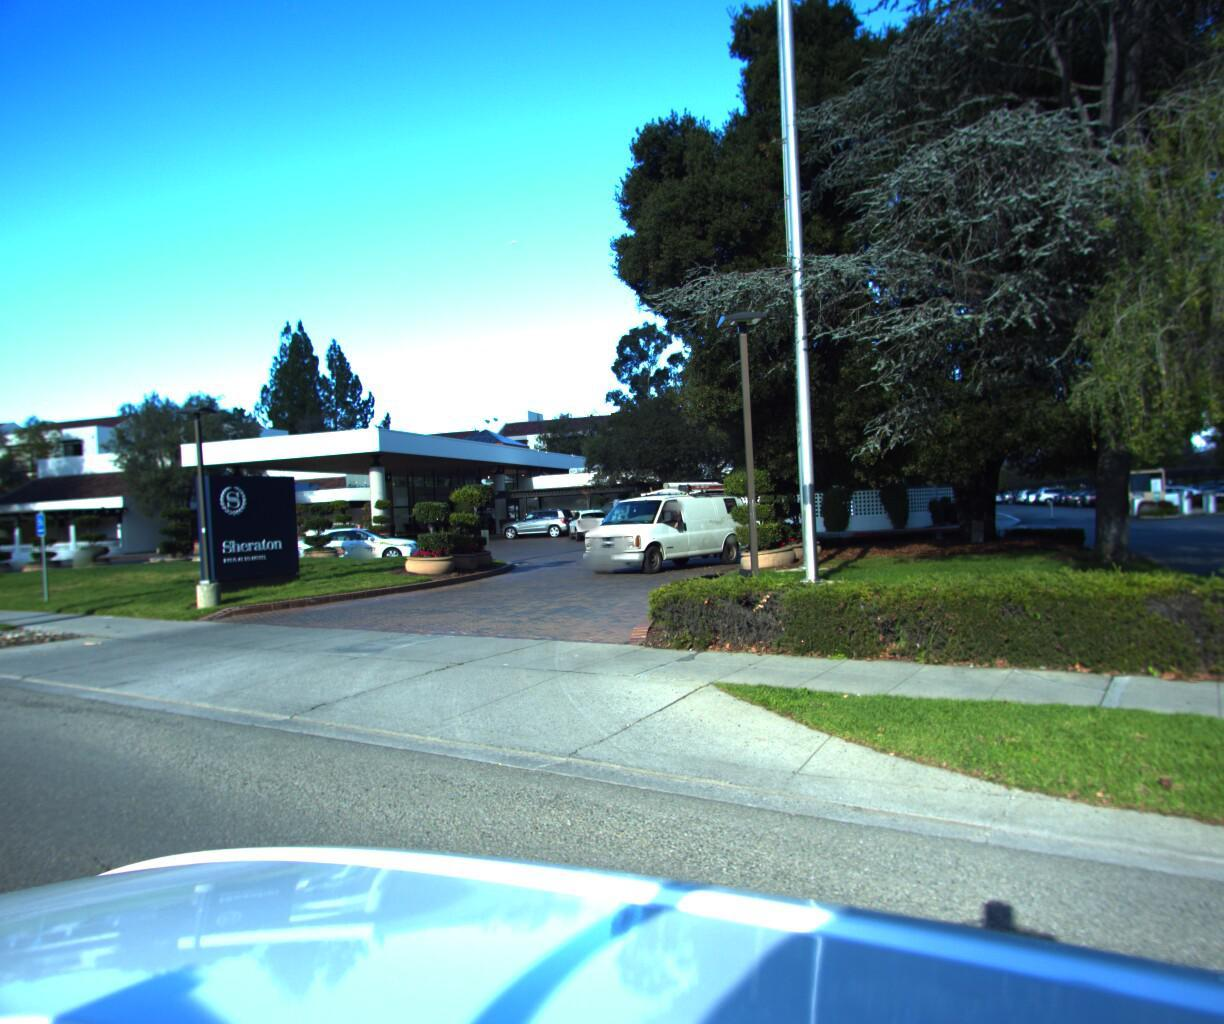car: (567, 470, 767, 575), (282, 514, 428, 566), (493, 500, 583, 533), (564, 500, 614, 536)
